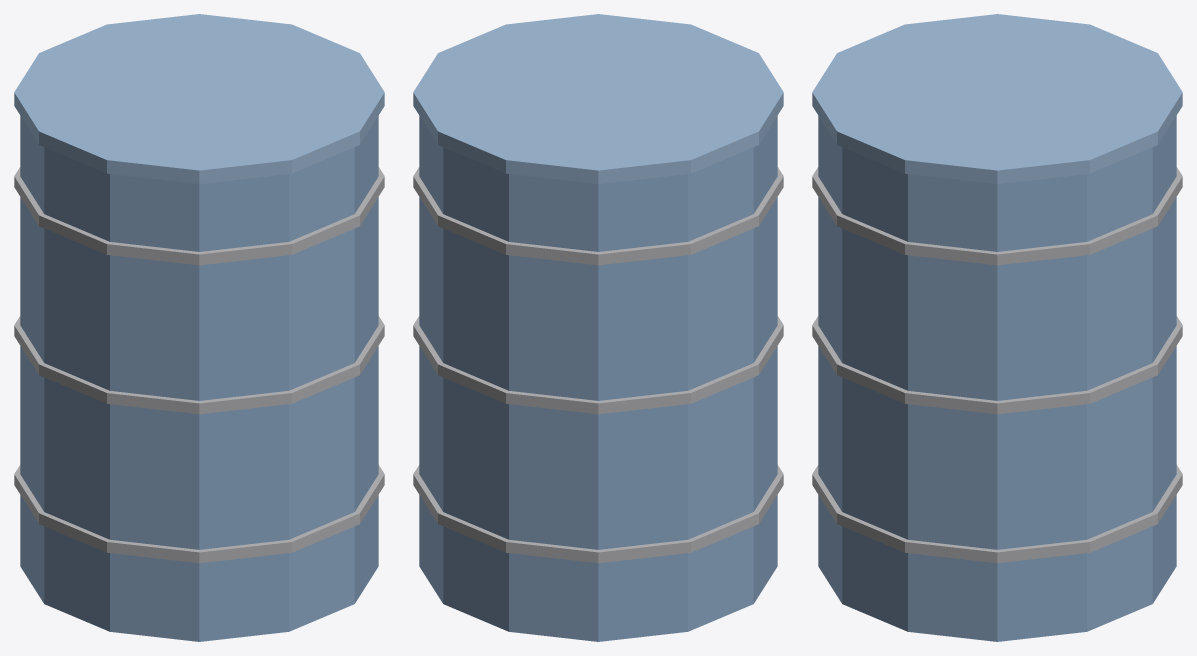
The model's file is water_tank.glb.
The picture shows the model from 3 angles, left to right: view 1: azimuth 30°, elevation 25°; view 2: azimuth 150°, elevation 25°; view 3: azimuth 270°, elevation 25°; orthographic projection.
Parts seen in each view (by area): view 1: WaterTank; view 2: WaterTank; view 3: WaterTank.
Part boxes in pixels (x1,y1,x2,y2): WaterTank: (14,14,384,641); WaterTank: (413,14,783,641); WaterTank: (812,14,1182,641).
Size of the model in its own units: 1.24 by 1.75 by 1.24.
